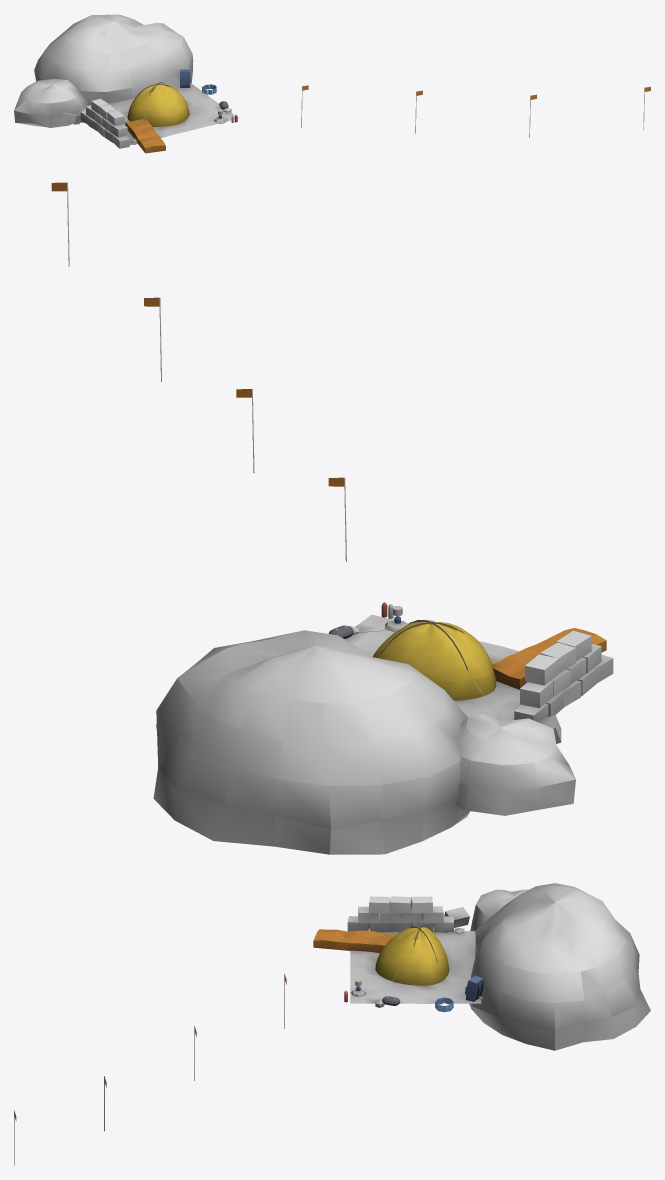
The model's file is owens_bivouac.glb.
The picture shows the model from 3 angles, top to bottom: view 1: azimuth 30°, elevation 25°; view 2: azimuth 150°, elevation 25°; view 3: azimuth 270°, elevation 25°; orthographic projection. The views are drawn at different scales.
Parts seen in each view (by area): view 1: main, detail; view 2: main, detail; view 3: main, detail.
Part boxes in pixels (x1,y1,x2,y2): main: [14, 14, 238, 153]; detail: [61, 69, 650, 144]; main: [153, 614, 613, 854]; detail: [51, 182, 561, 743]; main: [313, 883, 650, 1050]; detail: [14, 907, 483, 1165].
Size of the model in its own units: 16.83 by 2.98 by 15.55.
